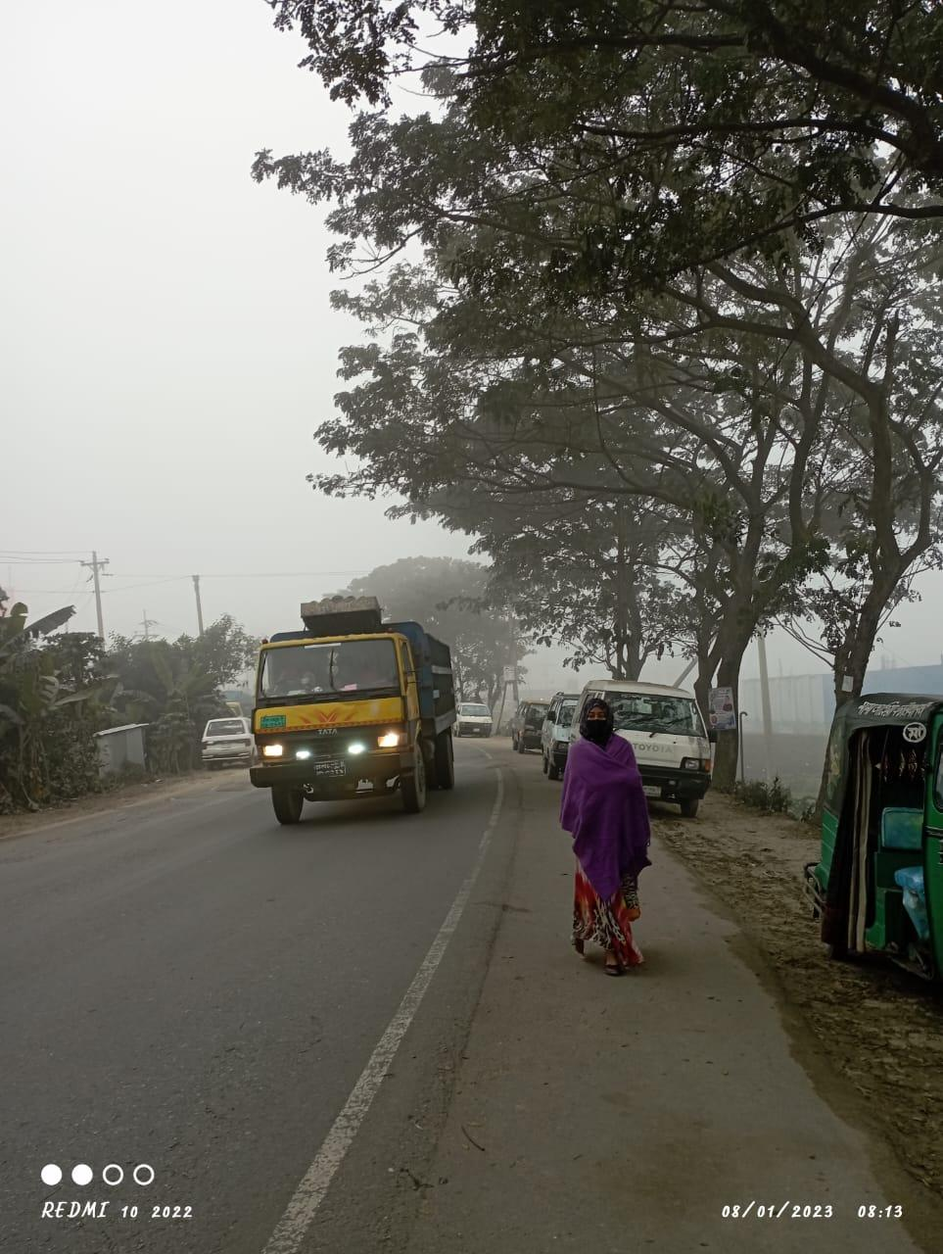Car: (577, 670, 725, 814), (197, 702, 259, 773), (454, 695, 505, 748)
Truck: (245, 588, 462, 835)
